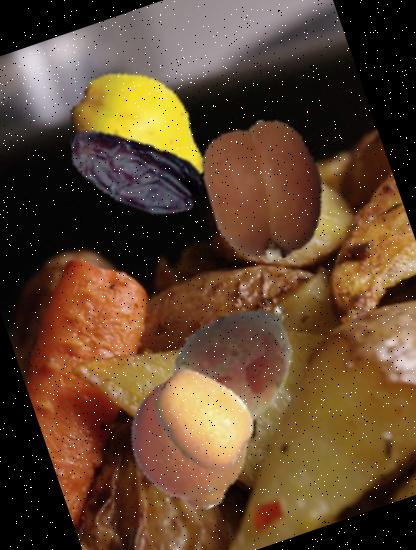Apricot: (178, 102, 354, 278)
Dates: (48, 86, 220, 258)
Kumquats: (136, 350, 272, 486)
Potato: (144, 278, 327, 462)
Quince: (45, 44, 232, 230)
Tangelo: (107, 358, 276, 528)
